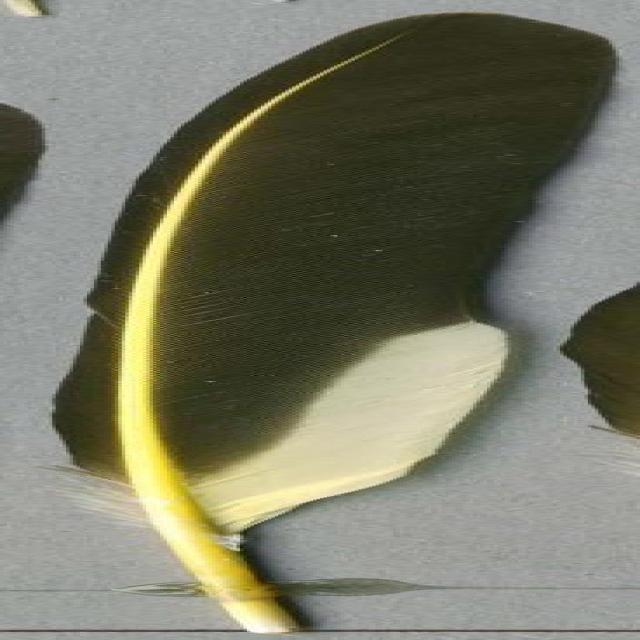feather: (87, 10, 640, 636)
